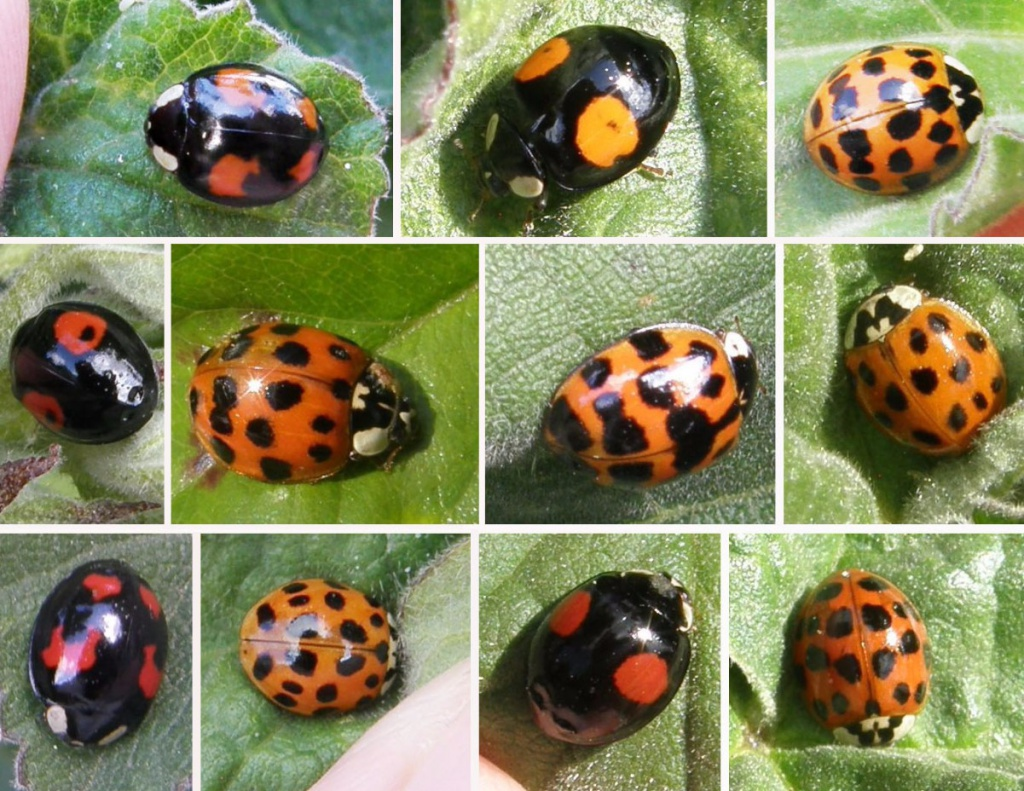red: (539, 318, 763, 491), (191, 320, 421, 488), (845, 286, 1014, 457), (804, 41, 982, 197), (789, 567, 932, 748), (237, 578, 404, 723)
two_spots: (480, 25, 680, 209), (523, 570, 692, 748), (11, 303, 154, 443)
two_spots_mutant: (32, 558, 169, 752), (144, 65, 327, 205)
